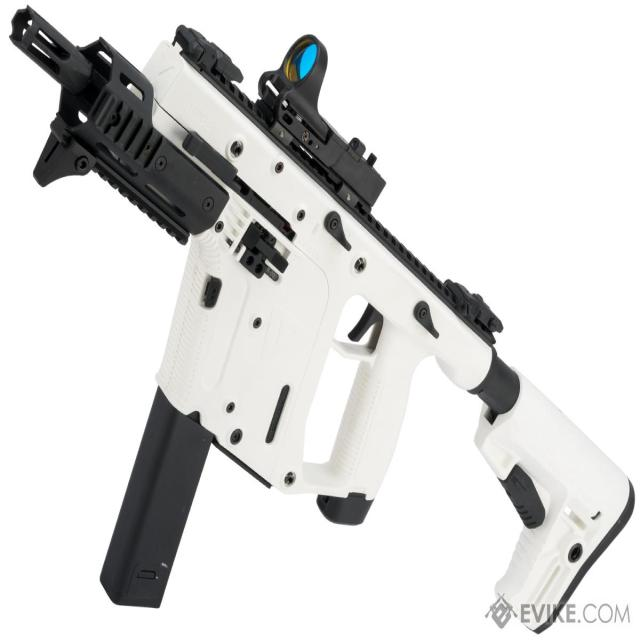SMG: (11, 7, 638, 636)
